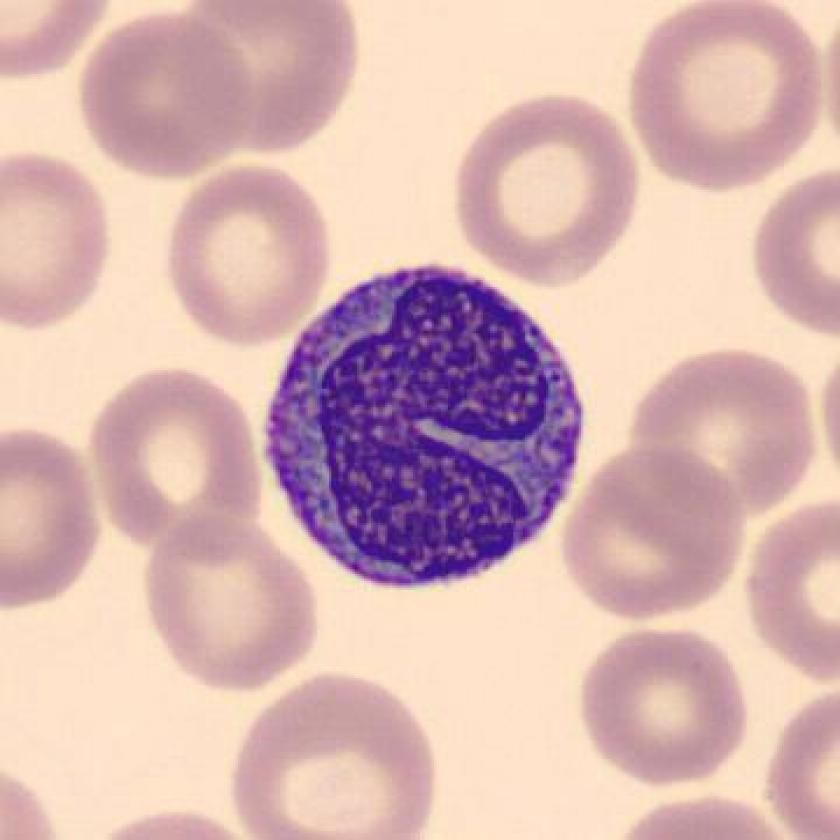monocyte: (251, 247, 594, 608)
